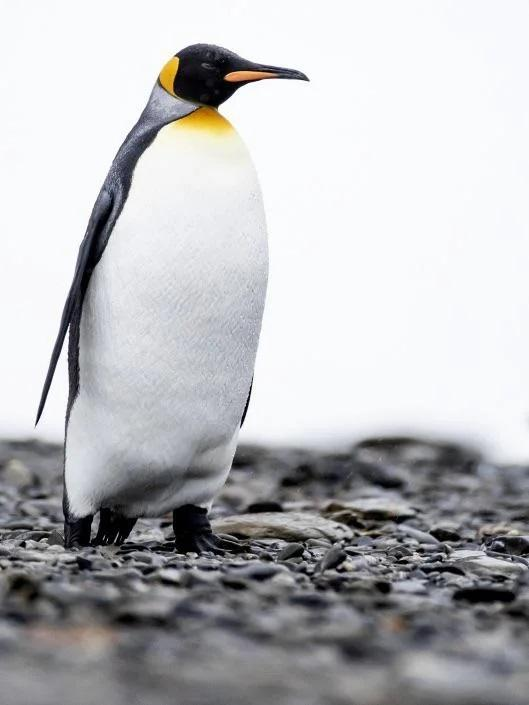king: (45, 23, 318, 584)
